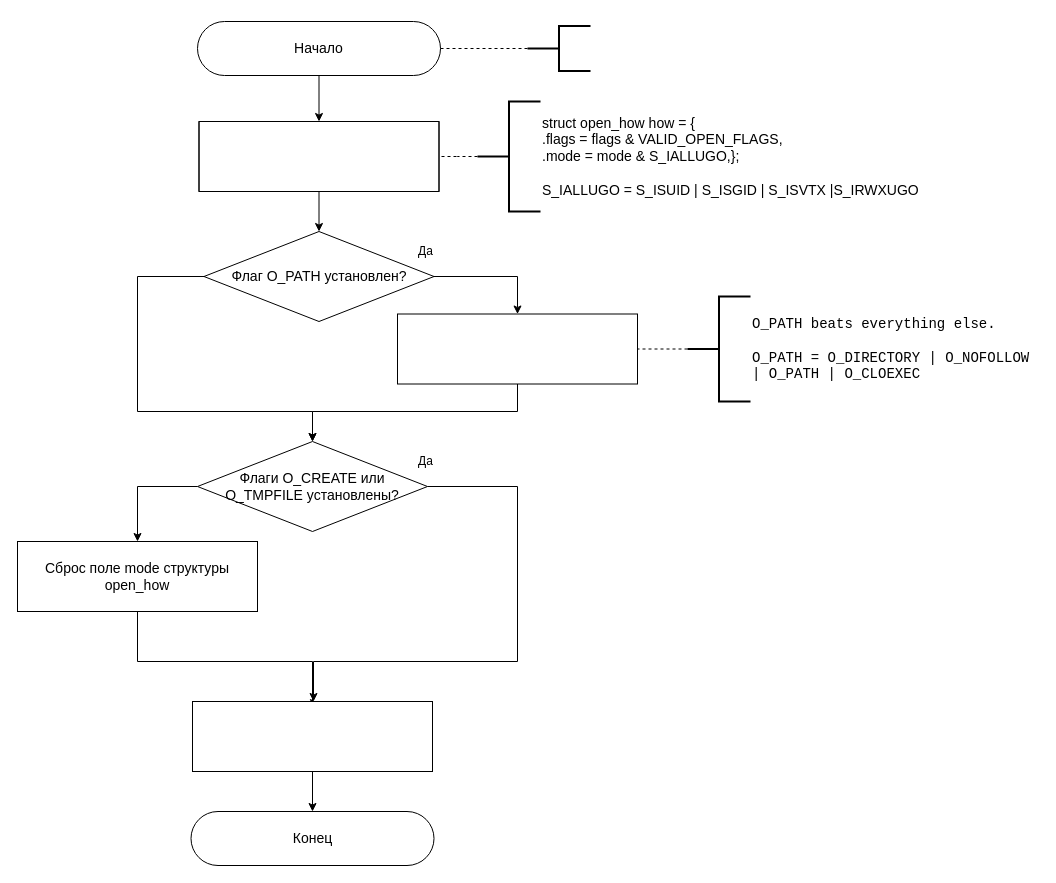
Some shapes in this 1056 by 883 pixel diagram are drawn without their labels. The shapes that lost their labels are listed below. From the top down, each one's centre as x and y in pixels, then its label:
At (x=558, y=48): "inline struct open_how build_open_how( int flags, umode_t mode)".
At (x=318, y=156): "Инициализация поля flags и поля mode структуры open_how".
At (x=517, y=348): "how.flags &= O_PATH_FLAGS;".
At (x=312, y=736): "Возврат структуры open_how".
